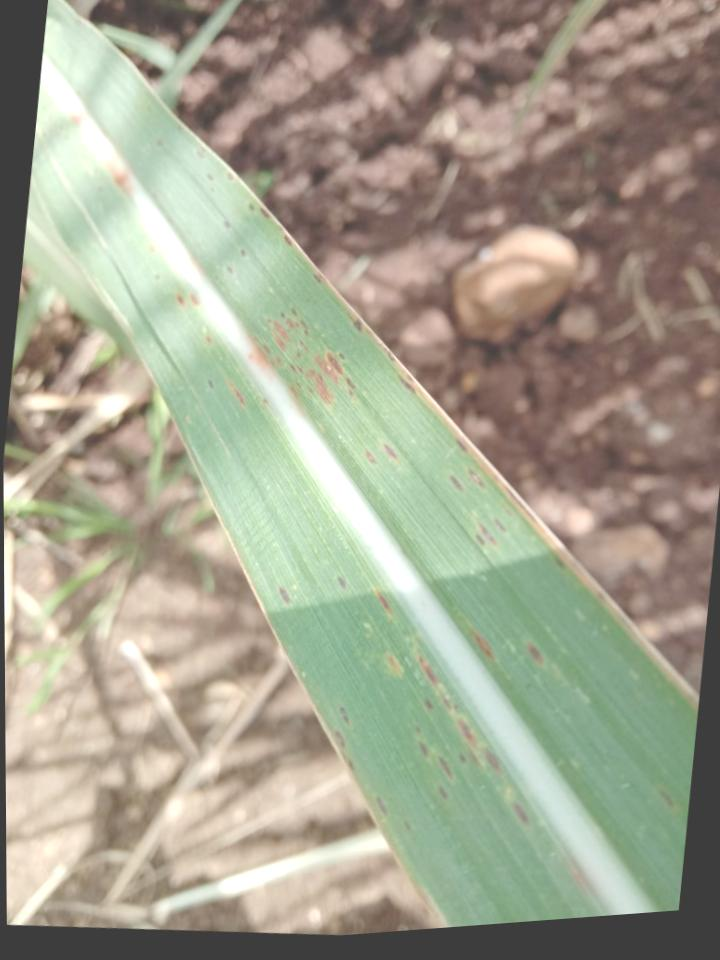RedRot: (99, 151, 134, 203), (246, 335, 272, 376), (69, 112, 84, 128)
Rust: (413, 650, 504, 776), (312, 343, 360, 407), (259, 303, 313, 356), (466, 511, 509, 560), (304, 369, 337, 410), (467, 627, 500, 664), (370, 586, 395, 620), (381, 650, 408, 681), (653, 782, 680, 812), (509, 797, 532, 829), (523, 638, 546, 667), (436, 751, 455, 784), (225, 379, 245, 408), (395, 371, 419, 395), (467, 464, 487, 491), (373, 793, 391, 820), (331, 726, 349, 750), (254, 336, 274, 357), (446, 473, 465, 495), (337, 702, 351, 728), (416, 738, 430, 762), (382, 442, 398, 463), (277, 586, 292, 608), (296, 338, 311, 360), (453, 437, 471, 455), (351, 317, 366, 336), (436, 782, 450, 802), (173, 291, 187, 310), (363, 447, 376, 467), (288, 362, 304, 378), (422, 695, 437, 711), (334, 576, 348, 592), (401, 818, 413, 835), (189, 291, 200, 309), (554, 556, 567, 571), (312, 271, 324, 286), (205, 376, 215, 392), (283, 235, 294, 247), (413, 723, 423, 736), (458, 751, 467, 765), (274, 353, 282, 368), (222, 219, 231, 231), (204, 333, 212, 346), (293, 380, 304, 389), (224, 265, 233, 275), (226, 171, 235, 181), (148, 244, 156, 255), (239, 247, 246, 259), (249, 202, 257, 212), (156, 138, 164, 148), (207, 172, 214, 183), (155, 273, 161, 283), (261, 397, 269, 403)
